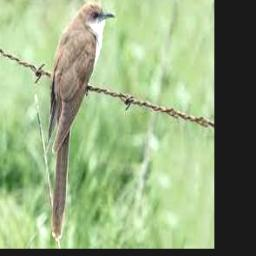Cuckoo: (47, 1, 115, 240)
